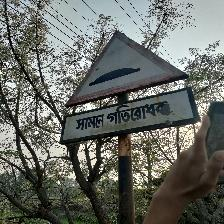Speed-breaker: (62, 30, 197, 144)
